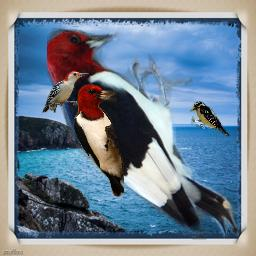Woodpecker: (47, 28, 244, 240), (73, 84, 124, 197), (42, 71, 89, 113), (190, 100, 230, 137)
